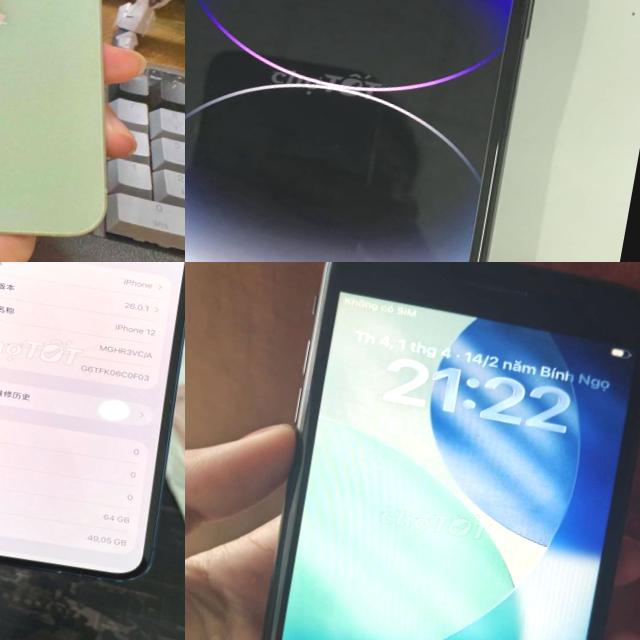gen_12_13: (0, 262, 185, 592), (0, 0, 166, 262)
gen_x_xs: (185, 0, 574, 262)
scratch: (222, 262, 640, 640)
